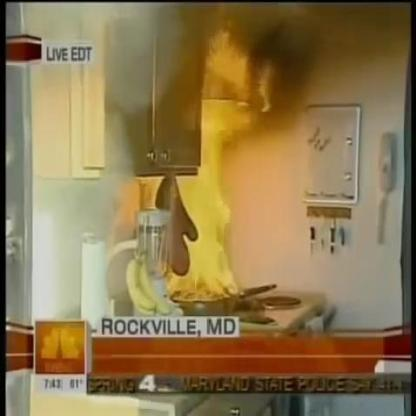fire: (169, 36, 275, 300)
